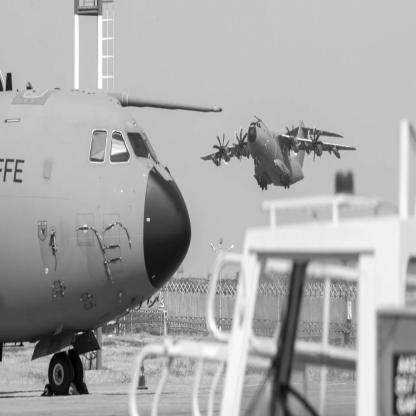A400M: (1, 70, 224, 397), (201, 115, 357, 192)
